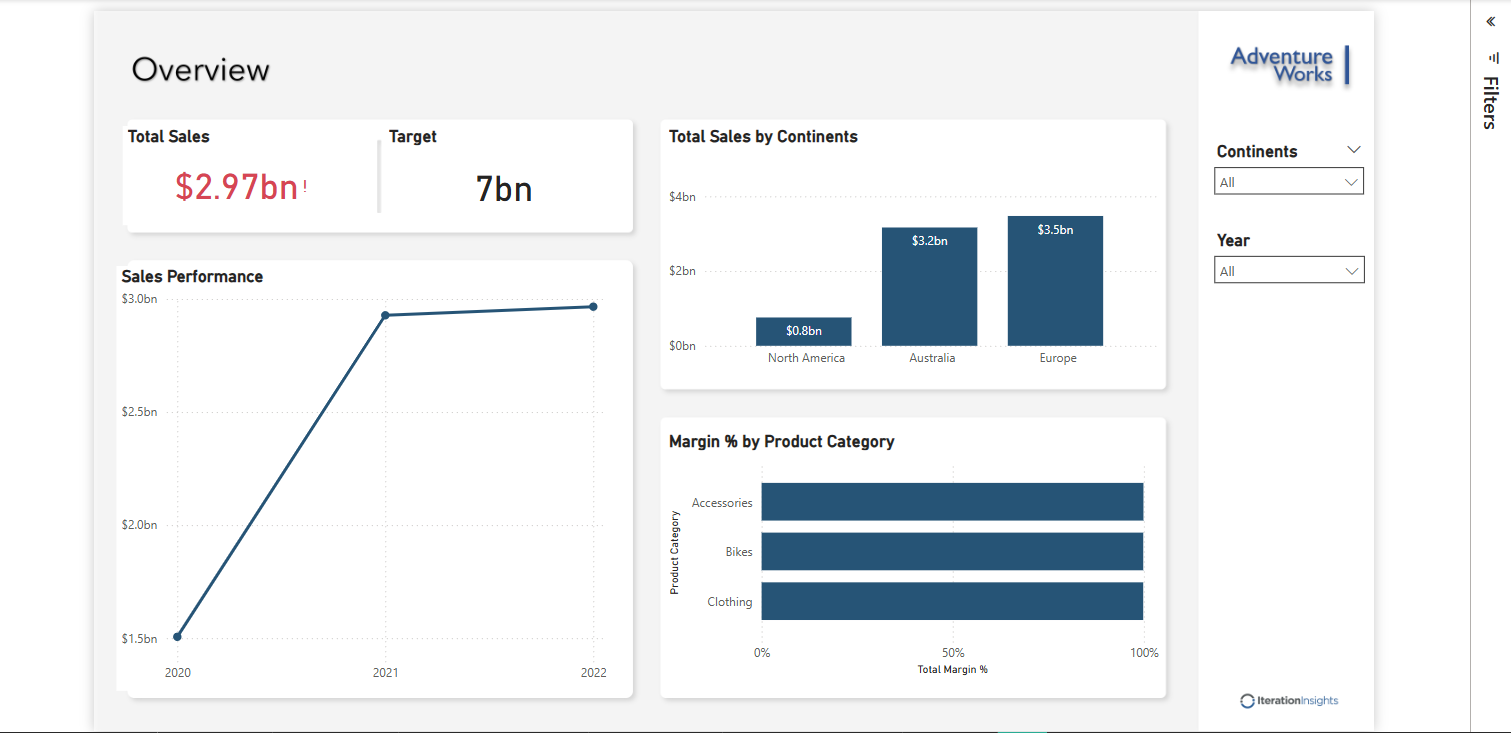

The dashboard page shown, as its layout file describes it:
{"tool":"powerbi","page":{"name":"Overview","canvas":[1280,720],"ordinal":0},"visuals":[{"type":"clusteredColumnChart","title":"Total Sales by Continents","fields":{"Y":["Sales.Total Sales"],"Category":["Sales Territory.Sales Territory Continents"]},"box":[570,115,500,250],"z":0},{"type":"clusteredBarChart","title":"Margin % by Product Category","fields":{"Y":["Sales.Total Margin %"],"Category":["Product.Product Hierarchy.Product Category"]},"box":[570,420,500,250],"z":1000},{"type":"lineChart","title":"Sales Performance","fields":{"Y":["Sales.Total Sales"],"Category":["Order Date.Order Date Hierarchy.Order Date Year","Order Date.Order Date Hierarchy.Order Date Month","Order Date.Order Date Hierarchy.Order Date"]},"box":[22,255,495,425],"z":2000},{"type":"kpi","title":"Total Sales ","fields":{"Indicator":["Sales.Total Sales"],"TrendLine":["Order Date.Order Date Year"],"Goal":["Sales.Target"]},"box":[29,114.6,239.9,99.3],"z":3000},{"type":"card","title":"Target","fields":{"Values":["Sales.Target"]},"box":[290,115,240,100],"z":4000},{"type":"slicer","title":"Slicer Year","fields":{"Values":["Order Date.Order Date Year"]},"box":[1109.7,213.8,170.5,70],"z":5000},{"type":"slicer","title":"Slicer  Continent","fields":{"Values":["Sales Territory.Sales Territory Continents"]},"box":[1110,125,170,70],"z":6000}]}

Visuals, with their boxes on the page's 1280x720 design canvas (x1, y1, x2, y2). These are canvas units, not pixel positions in the 1511x733 screenshot, which may show the page scaled, cropped or inside an application window:
"Total Sales by Continents" clusteredColumnChart: 570/115/1070/365
"Margin % by Product Category" clusteredBarChart: 570/420/1070/670
"Sales Performance" lineChart: 22/255/517/680
"Total Sales " kpi: 29/115/269/214
"Target" card: 290/115/530/215
"Slicer Year" slicer: 1110/214/1280/284
"Slicer  Continent" slicer: 1110/125/1280/195
